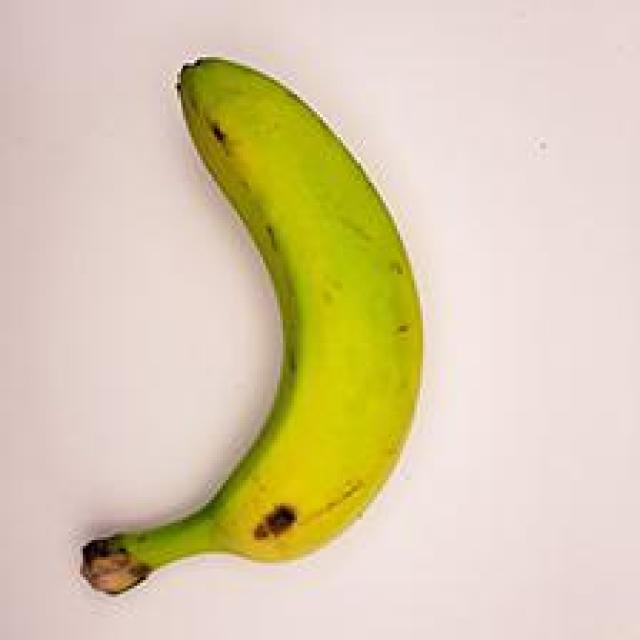Unripe: (65, 49, 437, 602)
